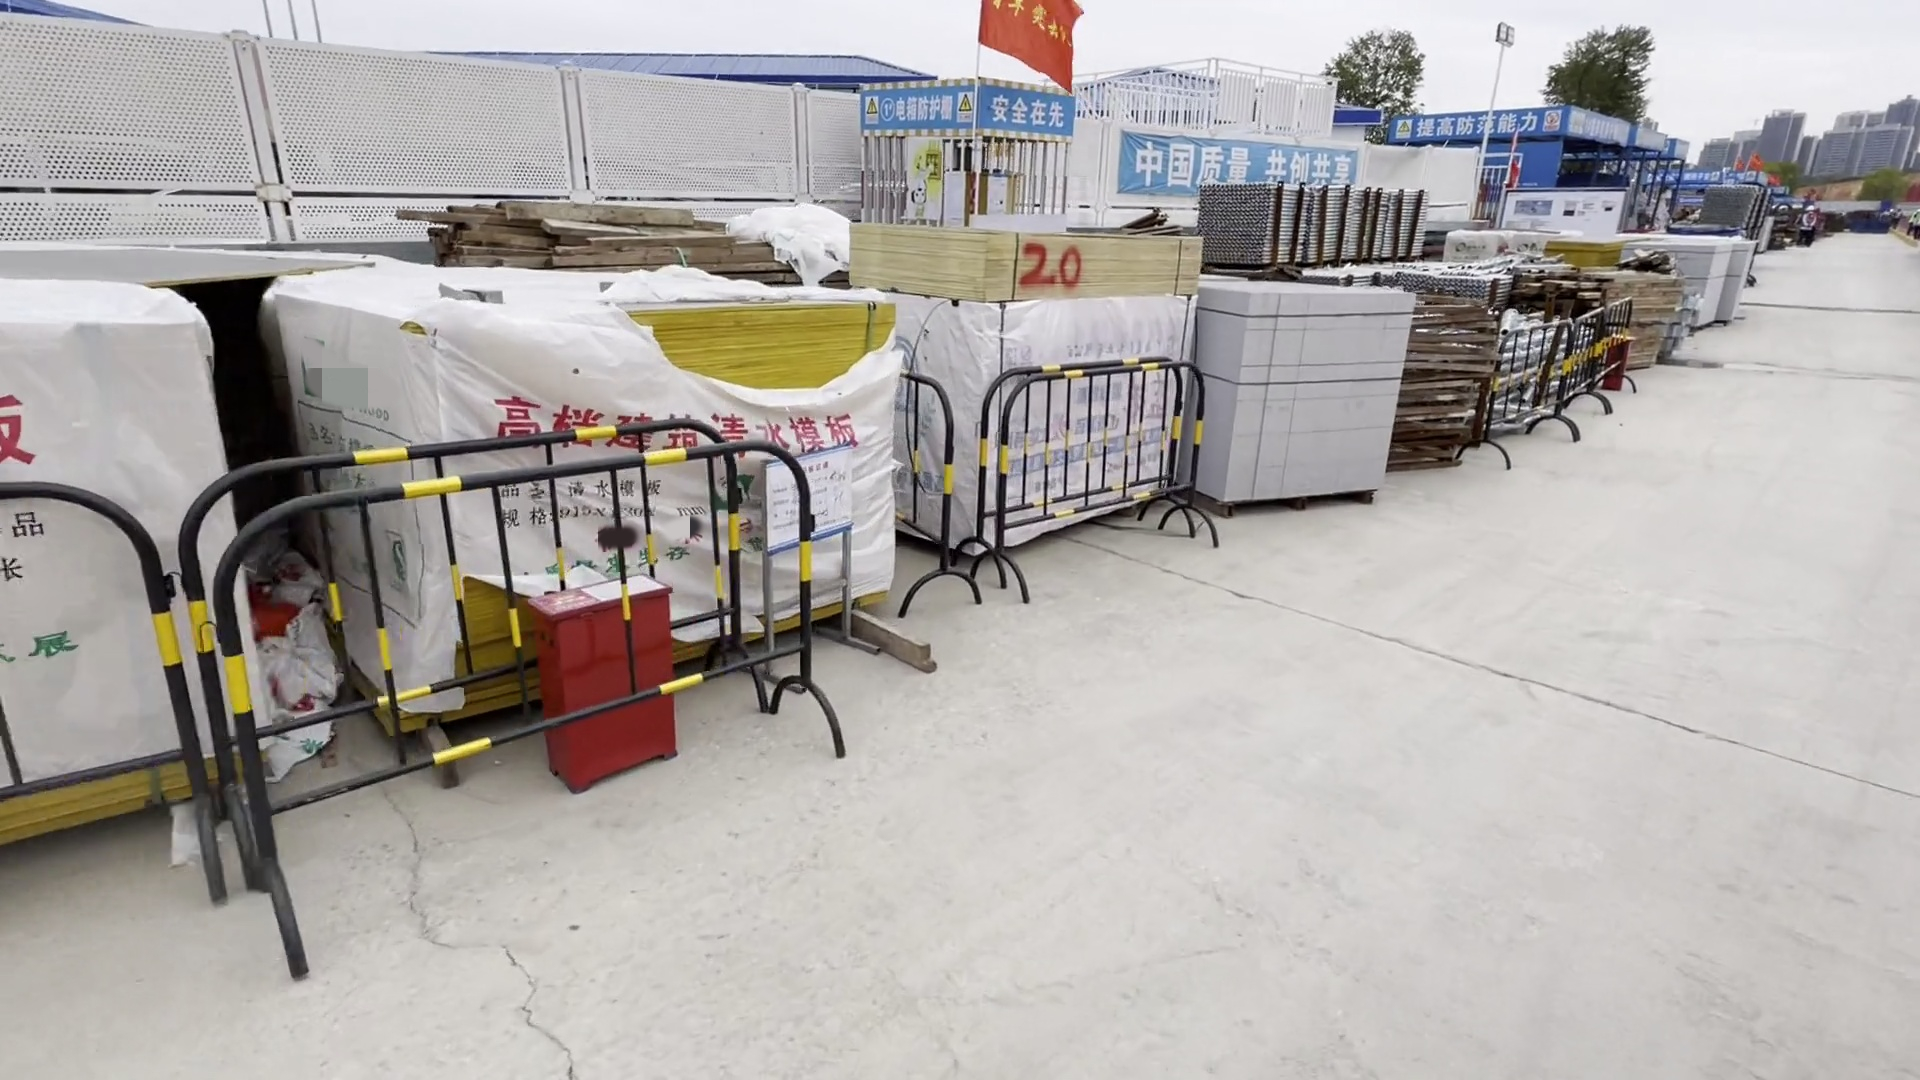board: (277, 286, 889, 647)
brick: (1162, 273, 1416, 522), (1617, 237, 1758, 331)
scaffold: (1193, 181, 1424, 280)
slogan: (1135, 137, 1338, 193), (1382, 105, 1567, 141), (977, 94, 1124, 132)
